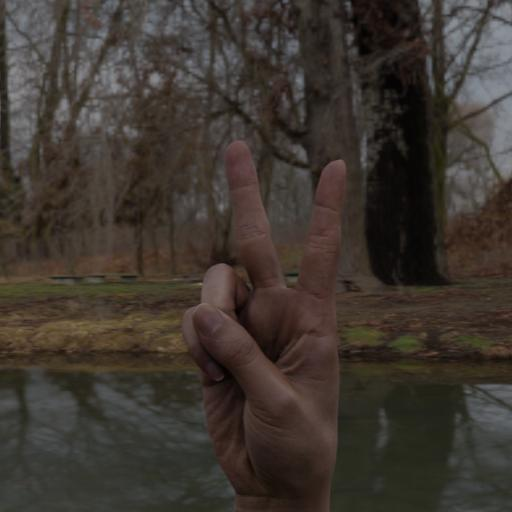V: (161, 112, 423, 508)
